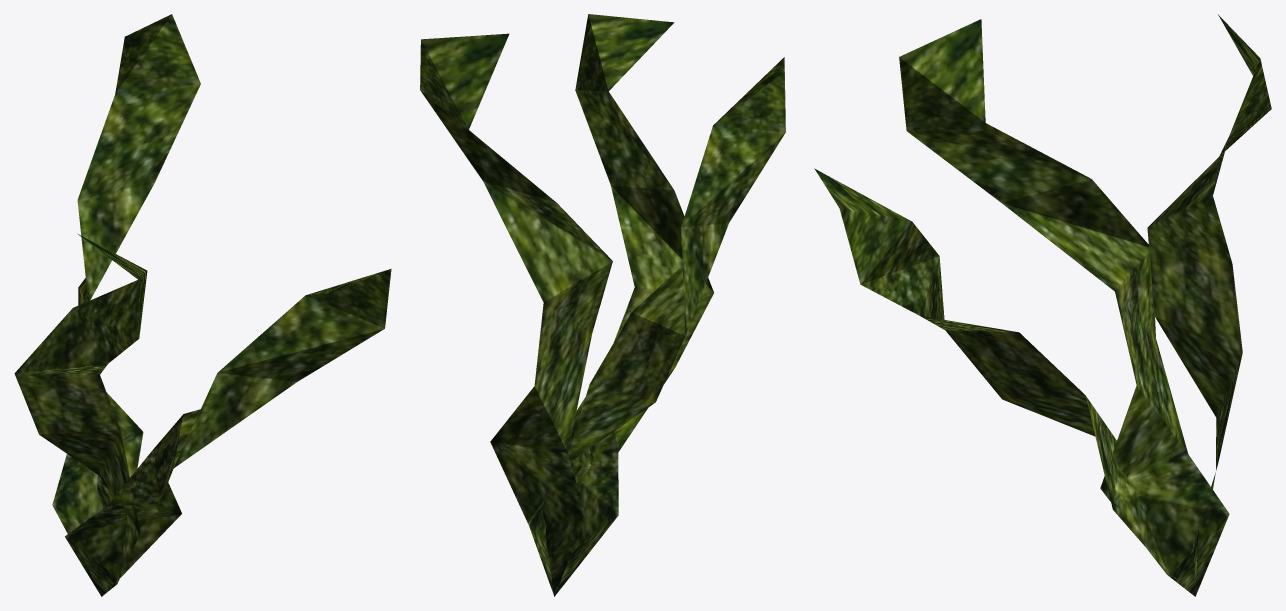
File: seaweed.obj
3 views of the same model, side by side, from view 1: azimuth 30°, elevation 25°; view 2: azimuth 150°, elevation 25°; view 3: azimuth 270°, elevation 25° (orthographic). The views are drawn at different scales.
Visible parts, largest first — view 1: Plane; view 2: Plane; view 3: Plane.
Boxes of the visible parts, x1=… form: Plane: x1=14, y1=14, x2=391, y2=596; Plane: x1=420, y1=14, x2=785, y2=596; Plane: x1=814, y1=14, x2=1271, y2=596.
Bounding box in the file's own units: 6.78 × 13.91 × 9.6.
